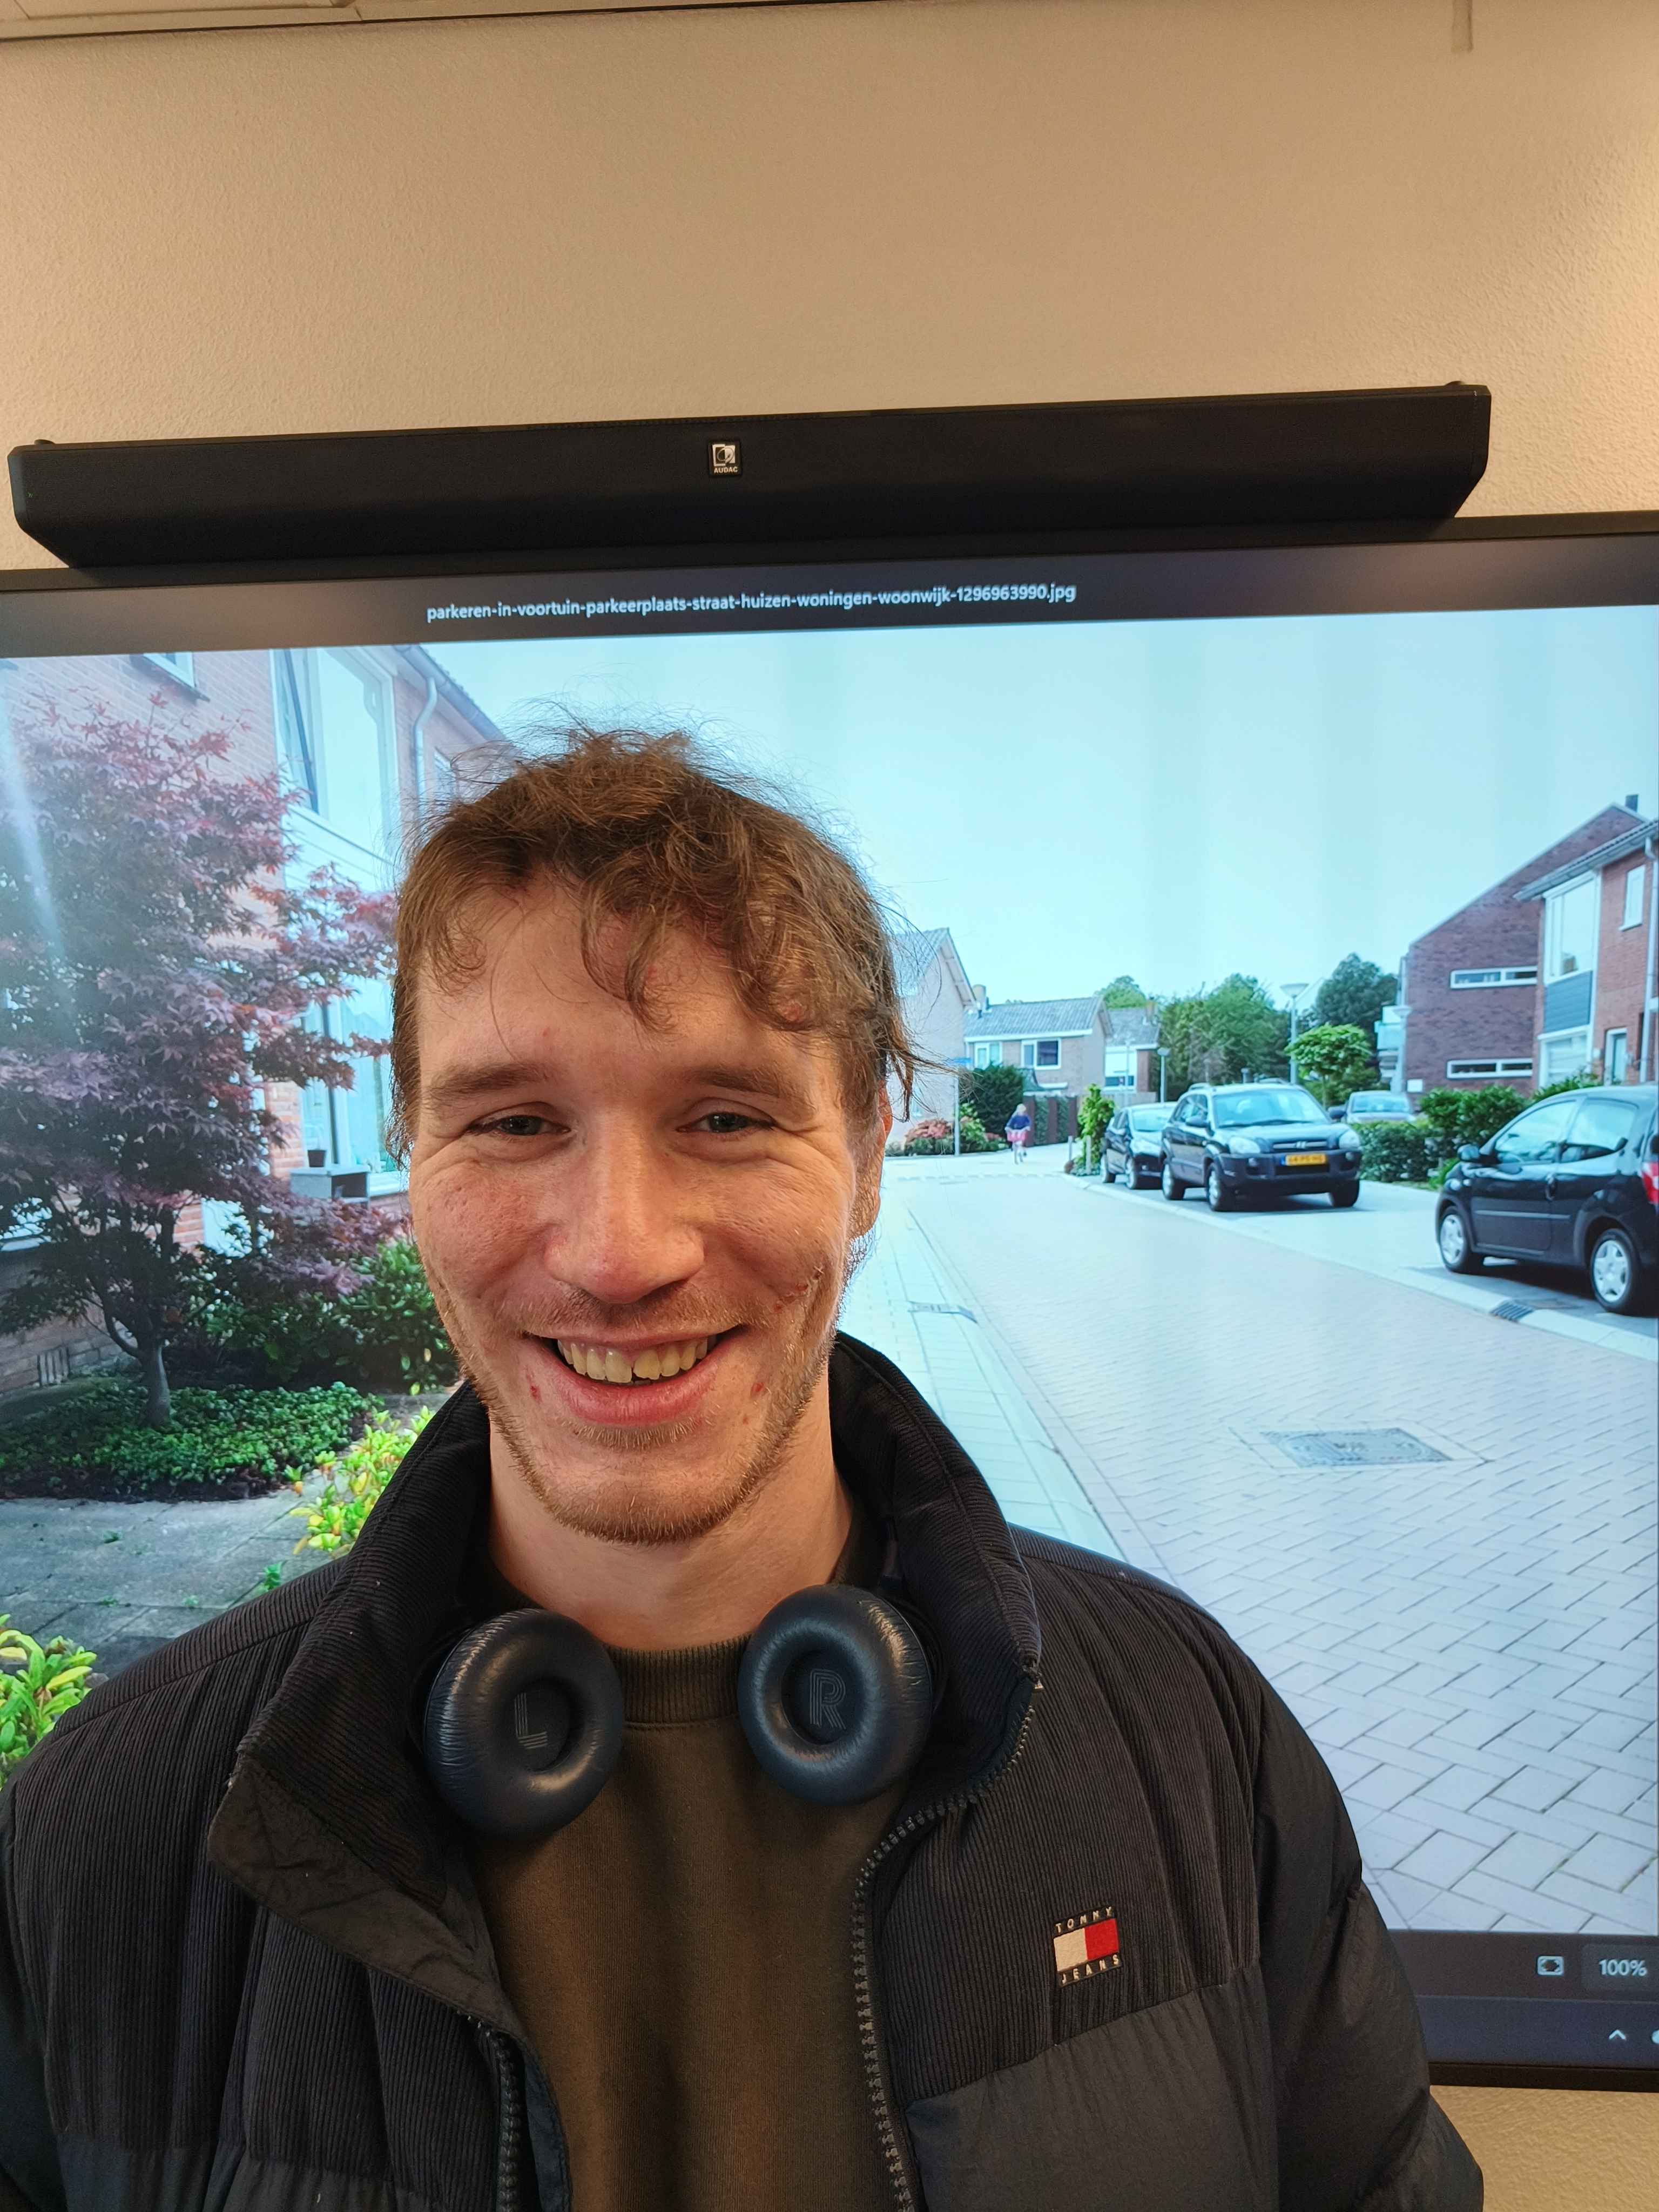face: (384, 734, 919, 1538)
